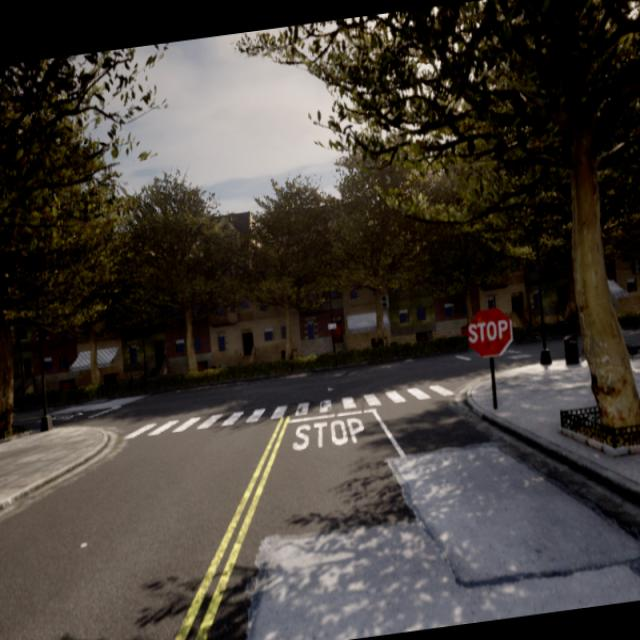stop sign: (464, 304, 514, 359), (467, 317, 509, 344)
